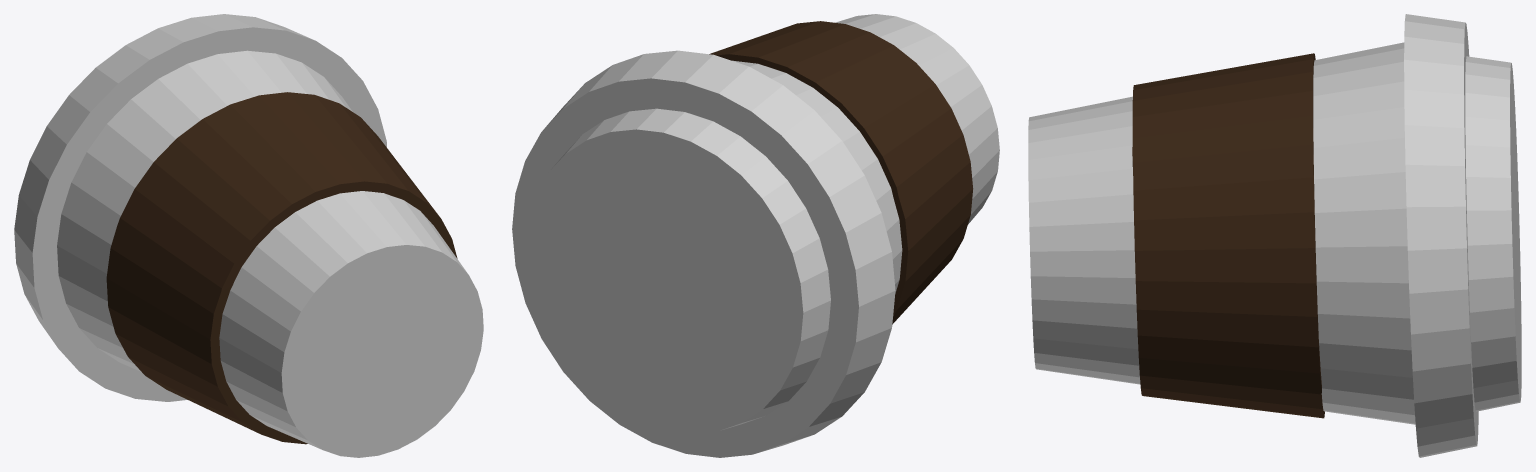
The model's file is food_2_coffee.fbx.
3 renders of one model, left to right at view 1: azimuth 30°, elevation 25°; view 2: azimuth 150°, elevation 25°; view 3: azimuth 270°, elevation 25°, orthographic. The views are drawn at different scales.
Parts seen in each view (by area): view 1: food_coffee; view 2: food_coffee; view 3: food_coffee.
Part boxes in pixels (x1,y1,x2,y2): food_coffee: [14, 14, 483, 457]; food_coffee: [512, 14, 999, 457]; food_coffee: [1028, 14, 1521, 457].
Size of the model in its own units: 43.86 by 43.83 by 48.64.
